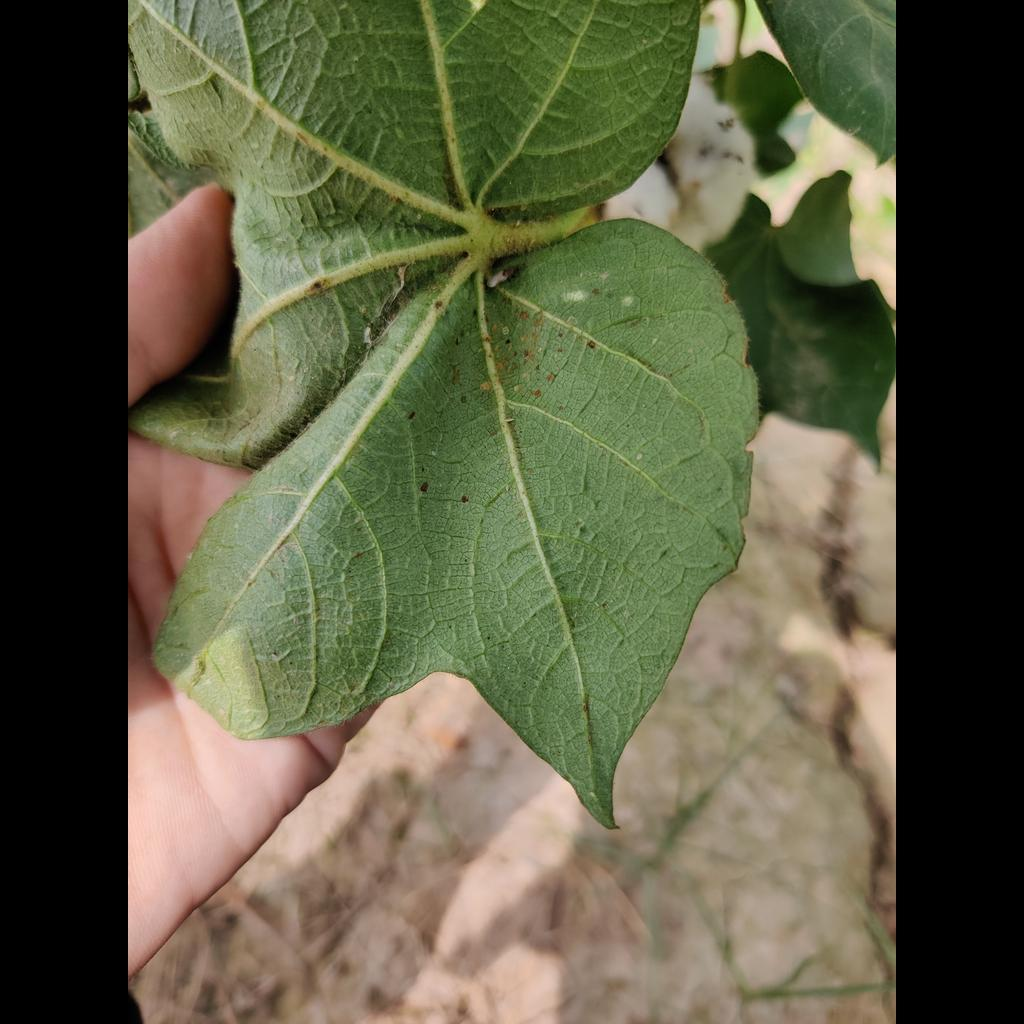nymph: (636, 453, 643, 460), (288, 376, 294, 381)
